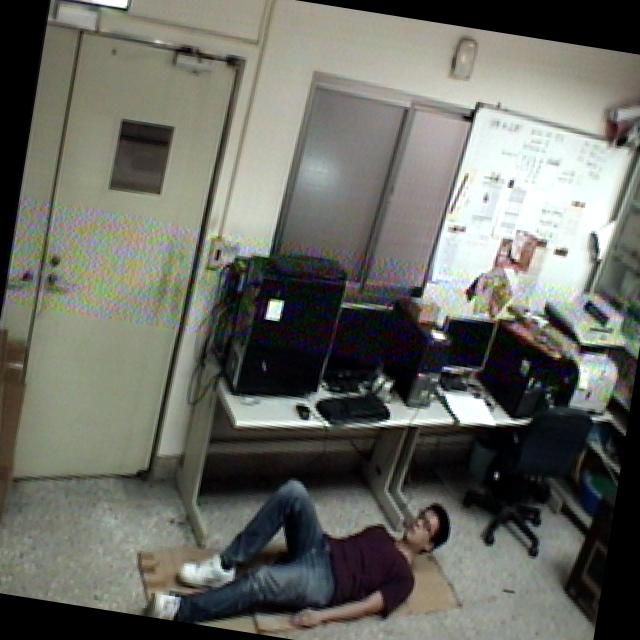lie: (139, 451, 461, 640)
